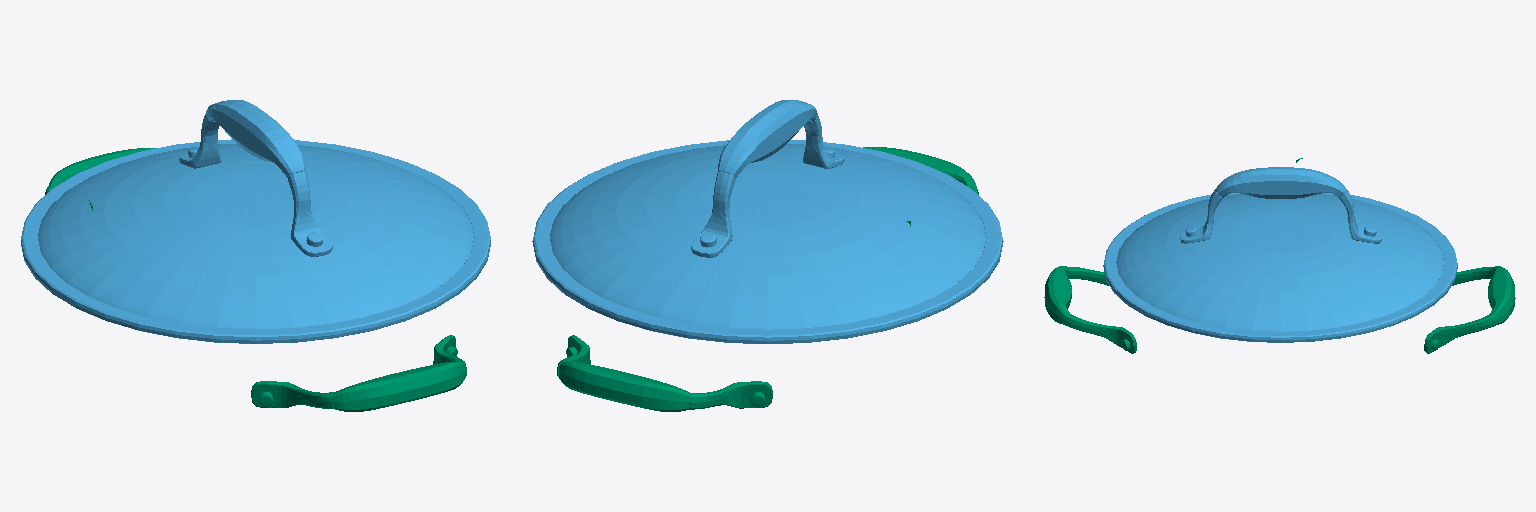
The robot description file, URDF, robot "partnet_f8439f99-4d73-47ff-bbb9-e38f54922933":
<?xml version="1.0" ?>
<robot name="partnet_f8439f99-4d73-47ff-bbb9-e38f54922933">
	<link name="base"/>
	<link name="link_0">
		<visual name="lid-1">
			<origin xyz="0 0 0"/>
			<geometry>
				<mesh filename="textured_objs/original-2.obj"/>
			</geometry>
		</visual>
		<visual name="lid-1">
			<origin xyz="0 0 0"/>
			<geometry>
				<mesh filename="textured_objs/original-23.obj"/>
			</geometry>
		</visual>
		<visual name="lid-1">
			<origin xyz="0 0 0"/>
			<geometry>
				<mesh filename="textured_objs/original-16.obj"/>
			</geometry>
		</visual>
		<visual name="lid-1">
			<origin xyz="0 0 0"/>
			<geometry>
				<mesh filename="textured_objs/original-8.obj"/>
			</geometry>
		</visual>
		<visual name="lid-1">
			<origin xyz="0 0 0"/>
			<geometry>
				<mesh filename="textured_objs/original-15.obj"/>
			</geometry>
		</visual>
		<visual name="lid-1">
			<origin xyz="0 0 0"/>
			<geometry>
				<mesh filename="textured_objs/original-7.obj"/>
			</geometry>
		</visual>
		<visual name="lid-1">
			<origin xyz="0 0 0"/>
			<geometry>
				<mesh filename="textured_objs/original-24.obj"/>
			</geometry>
		</visual>
		<visual name="lid-1">
			<origin xyz="0 0 0"/>
			<geometry>
				<mesh filename="textured_objs/original-21.obj"/>
			</geometry>
		</visual>
		<collision>
			<origin xyz="0 0 0"/>
			<geometry>
				<mesh filename="textured_objs/original-2.obj"/>
			</geometry>
		</collision>
		<collision>
			<origin xyz="0 0 0"/>
			<geometry>
				<mesh filename="textured_objs/original-23.obj"/>
			</geometry>
		</collision>
		<collision>
			<origin xyz="0 0 0"/>
			<geometry>
				<mesh filename="textured_objs/original-16.obj"/>
			</geometry>
		</collision>
		<collision>
			<origin xyz="0 0 0"/>
			<geometry>
				<mesh filename="textured_objs/original-8.obj"/>
			</geometry>
		</collision>
		<collision>
			<origin xyz="0 0 0"/>
			<geometry>
				<mesh filename="textured_objs/original-15.obj"/>
			</geometry>
		</collision>
		<collision>
			<origin xyz="0 0 0"/>
			<geometry>
				<mesh filename="textured_objs/original-7.obj"/>
			</geometry>
		</collision>
		<collision>
			<origin xyz="0 0 0"/>
			<geometry>
				<mesh filename="textured_objs/original-24.obj"/>
			</geometry>
		</collision>
		<collision>
			<origin xyz="0 0 0"/>
			<geometry>
				<mesh filename="textured_objs/original-21.obj"/>
			</geometry>
		</collision>
	</link>
	<joint name="joint_0" type="prismatic">
		<origin xyz="0 0 0"/>
		<axis xyz="0 1 0"/>
		<child link="link_0"/>
		<parent link="link_1"/>
		<limit lower="0" upper="0.02"/>
	</joint>
	<link name="link_1">
		<visual name="base_body-2">
			<origin xyz="0 0 0"/>
			<geometry>
				<mesh filename="textured_objs/original-4.obj"/>
			</geometry>
		</visual>
		<visual name="base_body-2">
			<origin xyz="0 0 0"/>
			<geometry>
				<mesh filename="textured_objs/original-3.obj"/>
			</geometry>
		</visual>
		<visual name="base_body-2">
			<origin xyz="0 0 0"/>
			<geometry>
				<mesh filename="textured_objs/original-13.obj"/>
			</geometry>
		</visual>
		<visual name="base_body-2">
			<origin xyz="0 0 0"/>
			<geometry>
				<mesh filename="textured_objs/original-9.obj"/>
			</geometry>
		</visual>
		<visual name="base_body-2">
			<origin xyz="0 0 0"/>
			<geometry>
				<mesh filename="textured_objs/original-5.obj"/>
			</geometry>
		</visual>
		<visual name="base_body-2">
			<origin xyz="0 0 0"/>
			<geometry>
				<mesh filename="textured_objs/original-6.obj"/>
			</geometry>
		</visual>
		<visual name="base_body-2">
			<origin xyz="0 0 0"/>
			<geometry>
				<mesh filename="textured_objs/original-17.obj"/>
			</geometry>
		</visual>
		<visual name="base_body-2">
			<origin xyz="0 0 0"/>
			<geometry>
				<mesh filename="textured_objs/original-12.obj"/>
			</geometry>
		</visual>
		<visual name="base_body-2">
			<origin xyz="0 0 0"/>
			<geometry>
				<mesh filename="textured_objs/original-20.obj"/>
			</geometry>
		</visual>
		<visual name="base_body-2">
			<origin xyz="0 0 0"/>
			<geometry>
				<mesh filename="textured_objs/original-1.obj"/>
			</geometry>
		</visual>
		<visual name="base_body-2">
			<origin xyz="0 0 0"/>
			<geometry>
				<mesh filename="textured_objs/original-10.obj"/>
			</geometry>
		</visual>
		<visual name="base_body-2">
			<origin xyz="0 0 0"/>
			<geometry>
				<mesh filename="textured_objs/original-19.obj"/>
			</geometry>
		</visual>
		<collision>
			<origin xyz="0 0 0"/>
			<geometry>
				<mesh filename="textured_objs/original-4.obj"/>
			</geometry>
		</collision>
		<collision>
			<origin xyz="0 0 0"/>
			<geometry>
				<mesh filename="textured_objs/original-3.obj"/>
			</geometry>
		</collision>
		<collision>
			<origin xyz="0 0 0"/>
			<geometry>
				<mesh filename="textured_objs/original-13.obj"/>
			</geometry>
		</collision>
		<collision>
			<origin xyz="0 0 0"/>
			<geometry>
				<mesh filename="textured_objs/original-9.obj"/>
			</geometry>
		</collision>
		<collision>
			<origin xyz="0 0 0"/>
			<geometry>
				<mesh filename="textured_objs/original-5.obj"/>
			</geometry>
		</collision>
		<collision>
			<origin xyz="0 0 0"/>
			<geometry>
				<mesh filename="textured_objs/original-6.obj"/>
			</geometry>
		</collision>
		<collision>
			<origin xyz="0 0 0"/>
			<geometry>
				<mesh filename="textured_objs/original-17.obj"/>
			</geometry>
		</collision>
		<collision>
			<origin xyz="0 0 0"/>
			<geometry>
				<mesh filename="textured_objs/original-12.obj"/>
			</geometry>
		</collision>
		<collision>
			<origin xyz="0 0 0"/>
			<geometry>
				<mesh filename="textured_objs/original-20.obj"/>
			</geometry>
		</collision>
		<collision>
			<origin xyz="0 0 0"/>
			<geometry>
				<mesh filename="textured_objs/original-1.obj"/>
			</geometry>
		</collision>
		<collision>
			<origin xyz="0 0 0"/>
			<geometry>
				<mesh filename="textured_objs/original-10.obj"/>
			</geometry>
		</collision>
		<collision>
			<origin xyz="0 0 0"/>
			<geometry>
				<mesh filename="textured_objs/original-19.obj"/>
			</geometry>
		</collision>
	</link>
	<joint name="joint_1" type="fixed">
		<origin rpy="1.570796326794897 0 -1.570796326794897" xyz="0 0 0"/>
		<child link="link_1"/>
		<parent link="base"/>
	</joint>
</robot>

--- Facts derived from the render (not from the file) ---
Views: 3 orthographic renders of the robot side by side, from view 1: azimuth 30°, elevation 25°; view 2: azimuth 150°, elevation 25°; view 3: azimuth 270°, elevation 25°.
Model partnet_f8439f99-4d73-47ff-bbb9-e38f54922933 with 3 links and 2 joints (1 prismatic, 1 fixed), rooted at base, posed every joint at zero.
Links seen in each view (by area): view 1: link_0, link_1; view 2: link_0, link_1; view 3: link_0, link_1.
Link boxes in pixels (x1,y1,x2,y2): link_0: (21, 100, 490, 343); link_1: (45, 148, 466, 411); link_0: (532, 100, 1003, 343); link_1: (557, 147, 978, 411); link_0: (1103, 167, 1457, 342); link_1: (1044, 158, 1515, 353).
Bounding box of the posed robot: 1.54 × 2.04 × 0.7162 m (x, y, z).
Meshes: 20 distinct files referenced, 20 mesh visuals loaded (20 OBJ).